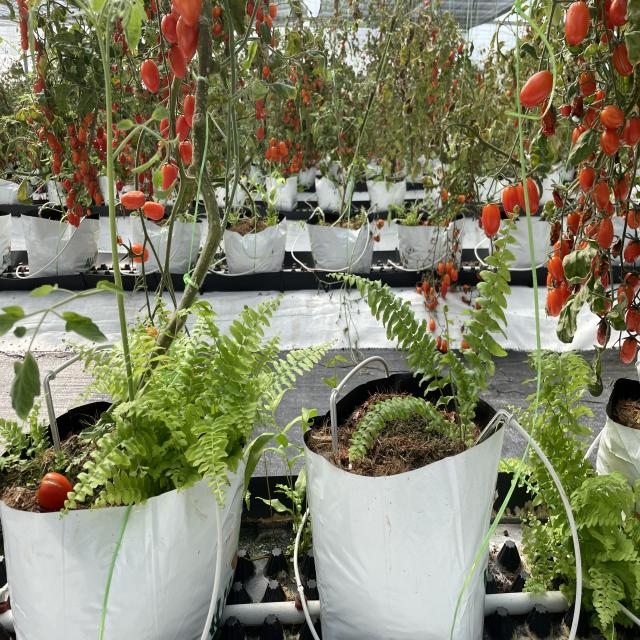Obstacle: (474, 405, 584, 638), (45, 342, 122, 455), (326, 353, 391, 452)
Soilbag: (304, 426, 504, 640), (0, 477, 243, 640)
plant: (82, 0, 243, 451), (540, 0, 640, 358)
